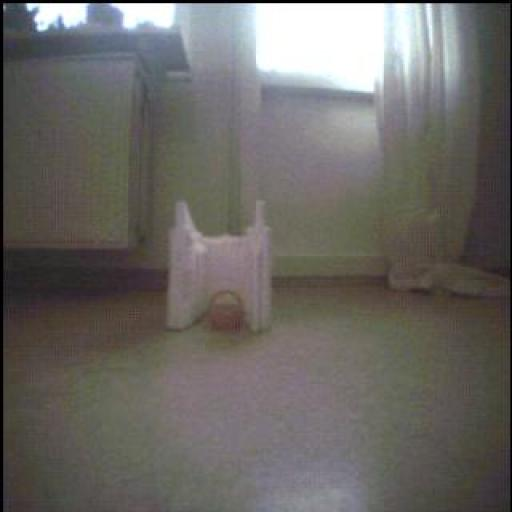Basket: (209, 292, 246, 332)
